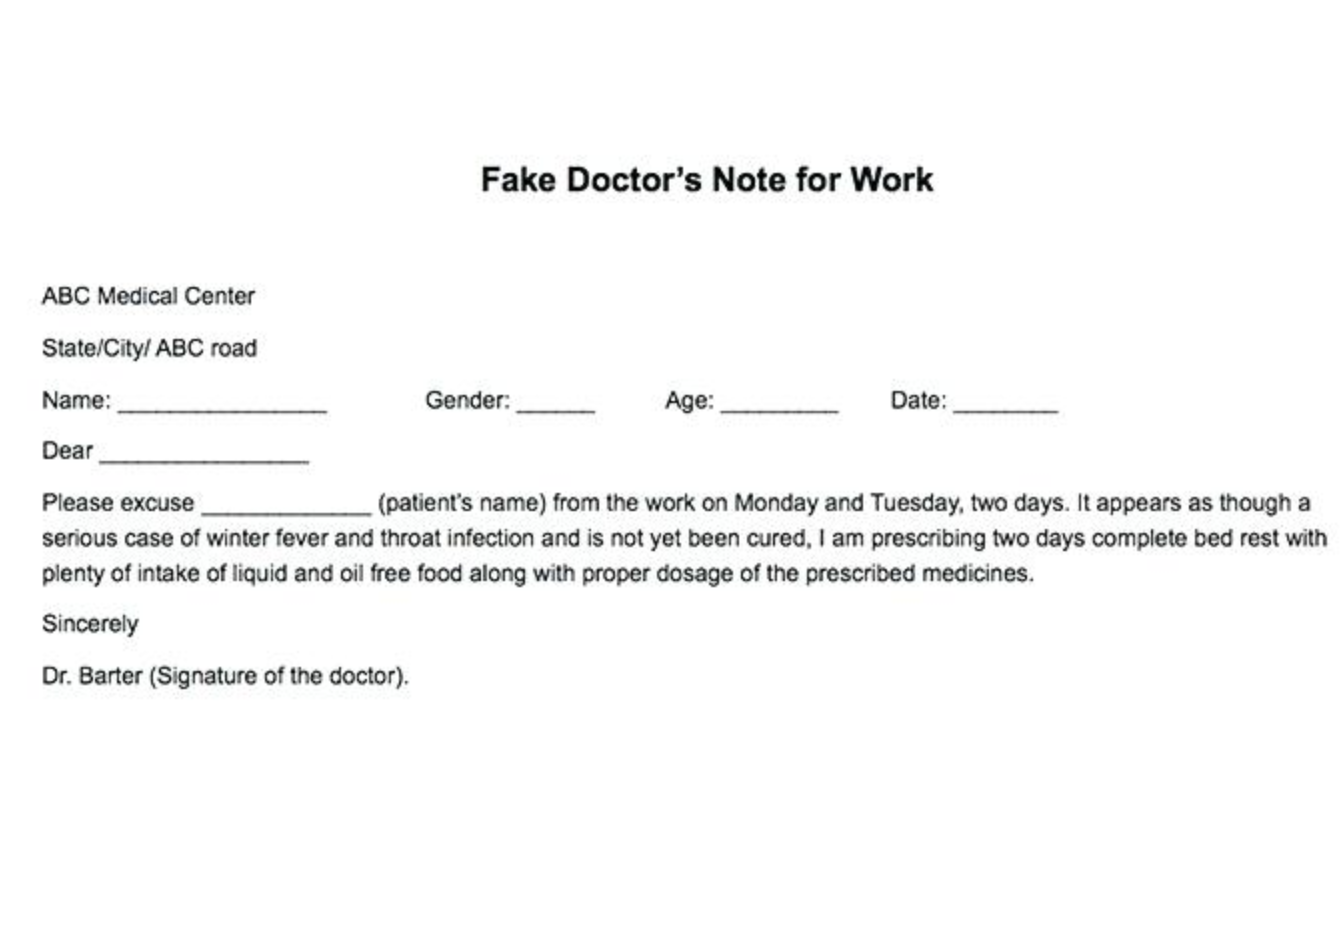textline: (113, 370, 333, 419), (93, 424, 315, 470), (195, 474, 375, 520), (717, 368, 850, 421), (947, 365, 1072, 419), (511, 371, 600, 421)
